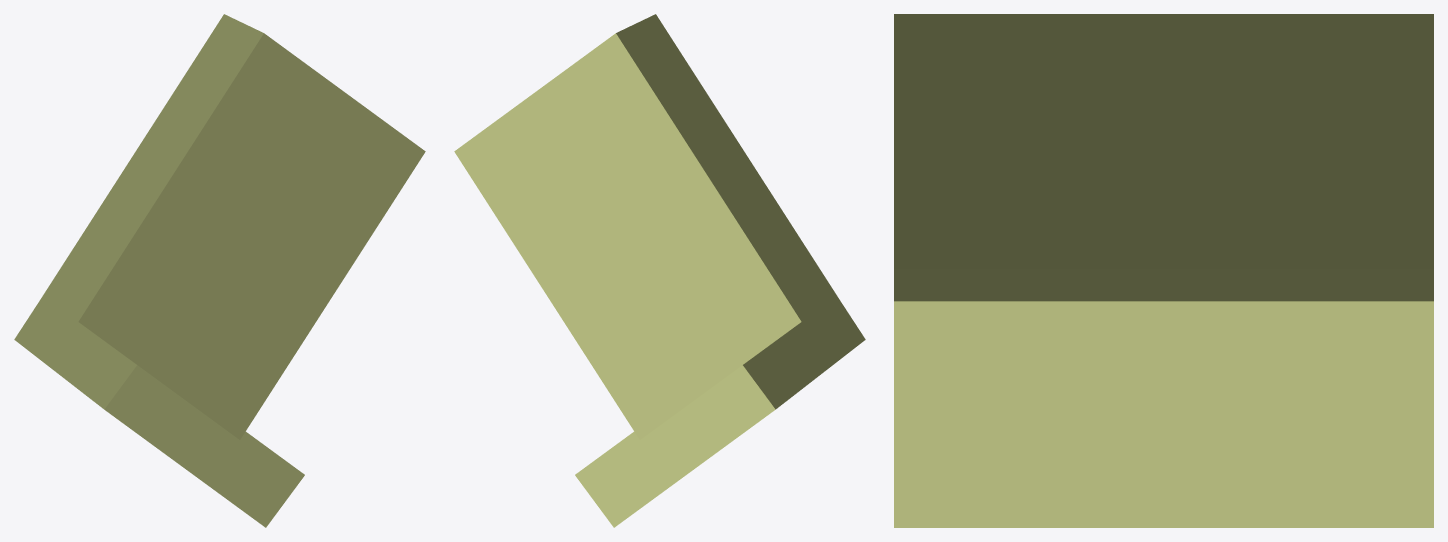
3 renders of one model, left to right at view 1: azimuth 30°, elevation 25°; view 2: azimuth 150°, elevation 25°; view 3: azimuth 270°, elevation 25°, orthographic. The views are drawn at different scales.
Parts seen in each view (by area): view 1: 0_1_3_2_2_1_2_1_3_1_2; view 2: 0_1_3_2_2_1_2_1_3_1_2; view 3: 0_1_3_2_2_1_2_1_3_1_2.
Boxes of the visible parts, <box> form: 0_1_3_2_2_1_2_1_3_1_2: <box>14,14,425,527</box>; 0_1_3_2_2_1_2_1_3_1_2: <box>454,14,865,527</box>; 0_1_3_2_2_1_2_1_3_1_2: <box>894,14,1433,527</box>.
Bounding box in the file's own units: 8.03 × 11.25 × 9.
